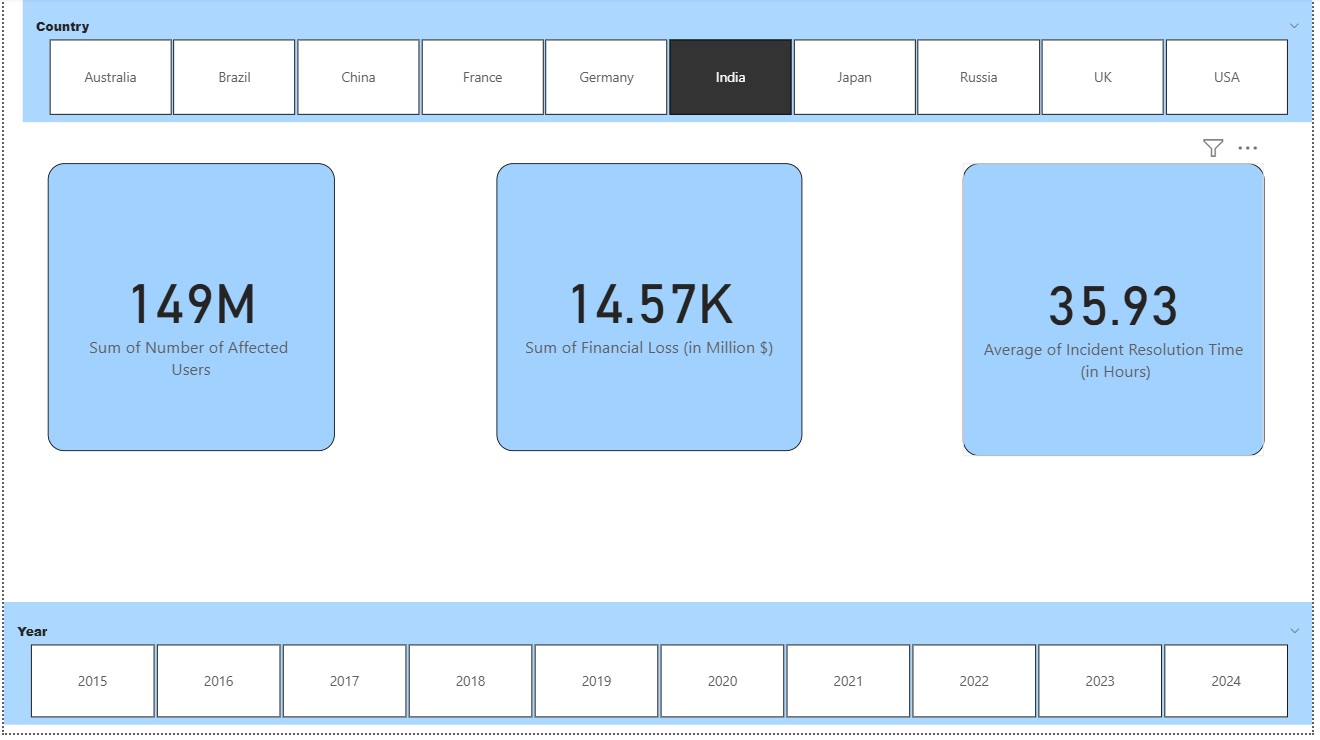

What the dashboard file says about the page in this screenshot:
{"tool":"powerbi","page":{"name":"Page 1","canvas":[1280,720],"ordinal":0},"visuals":[{"type":"card","fields":{"Values":["Sum(Global_Cybersecurity_Threats_2015-2024.Number of Affected Users)"]},"box":[42.4,162.1,280.5,281.8],"z":0},{"type":"slicer","fields":{"Values":["Global_Cybersecurity_Threats_2015-2024.Country"]},"box":[18.8,0,1261.5,122.3],"z":1000},{"type":"card","fields":{"Values":["Sum(Global_Cybersecurity_Threats_2015-2024.Financial Loss (in Million $))"]},"box":[481.3,162.1,299.2,281.8],"z":2000},{"type":"card","fields":{"Values":["Avg(Global_Cybersecurity_Threats_2015-2024.Incident Resolution Time (in Hours))"]},"box":[937.6,162.1,295.5,286.8],"z":3000},{"type":"slicer","fields":{"Values":["Global_Cybersecurity_Threats_2015-2024.Year"]},"box":[0,591.9,1280.3,119.8],"z":4000}]}

Visuals, with their boxes in screenshot pixels (x1, y1, x2, y2), scaled from the page's 1280x720 canvas onto the 1320x740 screenshot:
card - Sum(Global_Cybersecurity_Threats_2015-2024.Number of Affected Users): x1=44 y1=167 x2=333 y2=456
slicer - Global_Cybersecurity_Threats_2015-2024.Country: x1=19 y1=0 x2=1319 y2=126
card - Sum(Global_Cybersecurity_Threats_2015-2024.Financial Loss (in Million $)): x1=496 y1=167 x2=805 y2=456
card - Avg(Global_Cybersecurity_Threats_2015-2024.Incident Resolution Time (in Hours)): x1=967 y1=167 x2=1272 y2=461
slicer - Global_Cybersecurity_Threats_2015-2024.Year: x1=0 y1=608 x2=1319 y2=731
